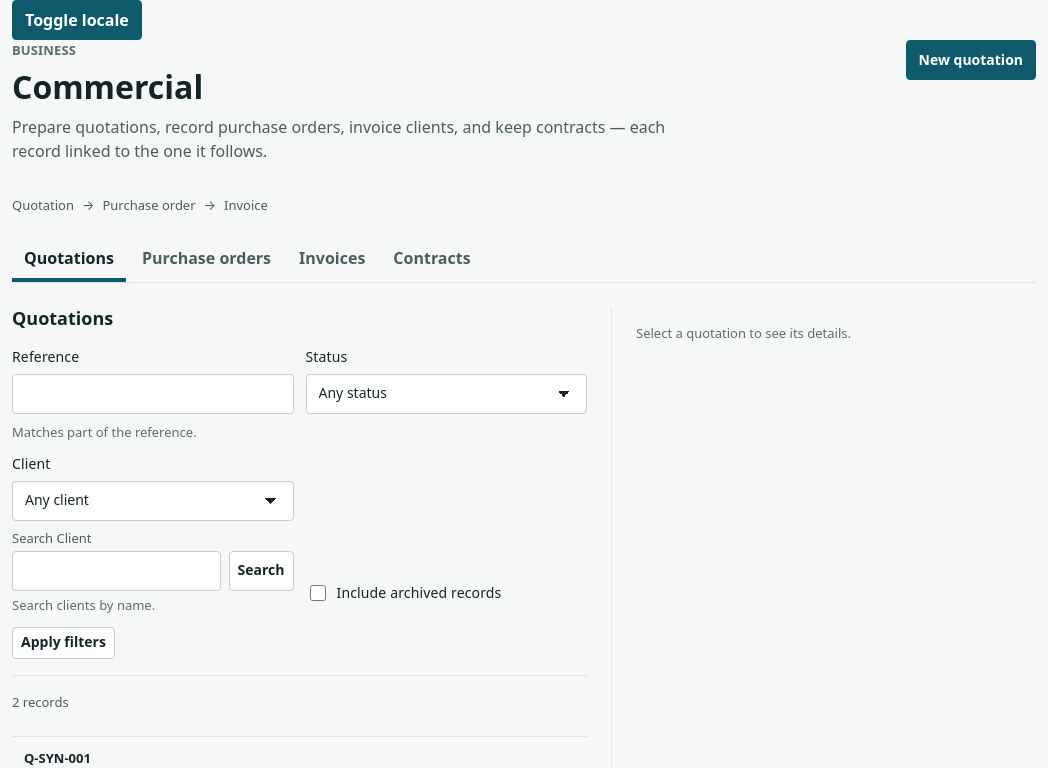
Scenario: CommercialPanel: presentation and localization › renders one English heading, human labels, readable money, and no identifier
This screenshot has width=1048, height=768.
Expected: the heading "Commercial" is shown, [12,65,203,108]
Expected: the buttons read "Quotations", "Purchase orders", "Invoices", "Contracts", in this order, [12,238,126,282]; [130,238,283,282]; [287,238,377,282]; [381,238,483,282]
Click the button "Q-SYN-001" at (57, 758), box [24,749,91,767]
(page scrolled)
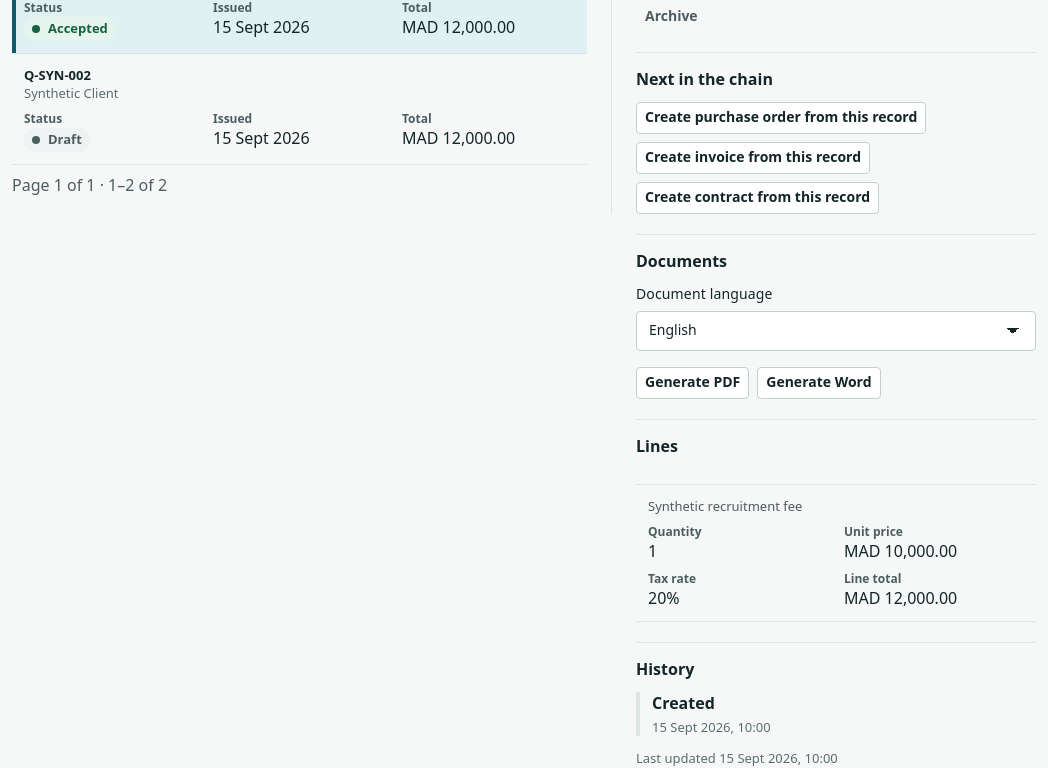
Expected: the column heading "Synthetic recruitment fee" is shown, [648,497,1024,515]
Expected: the button "Create purchase order from this record" is shown, [636,102,926,134]
Expected: the text "Created" is shown, [652,692,715,714]
